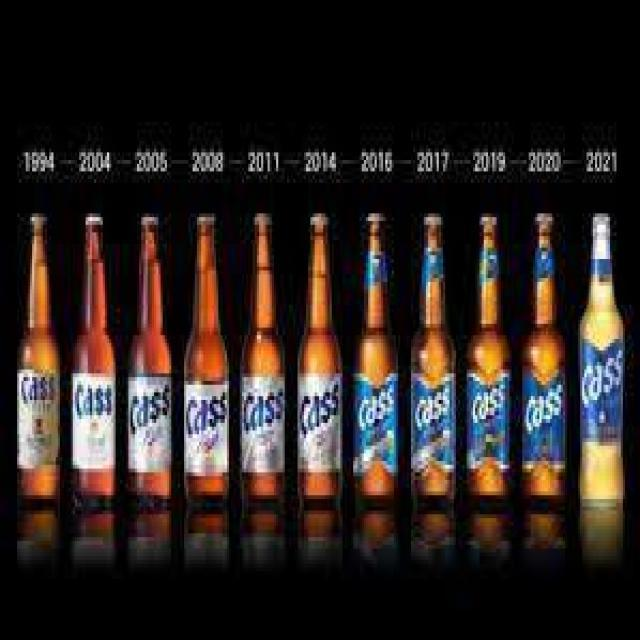beer-bottle: (295, 200, 348, 510), (182, 202, 232, 517), (464, 206, 515, 512), (240, 200, 290, 512), (520, 205, 570, 504), (16, 201, 64, 502), (579, 209, 628, 503), (412, 208, 460, 508), (126, 208, 172, 516), (353, 201, 399, 508), (70, 206, 116, 512)
